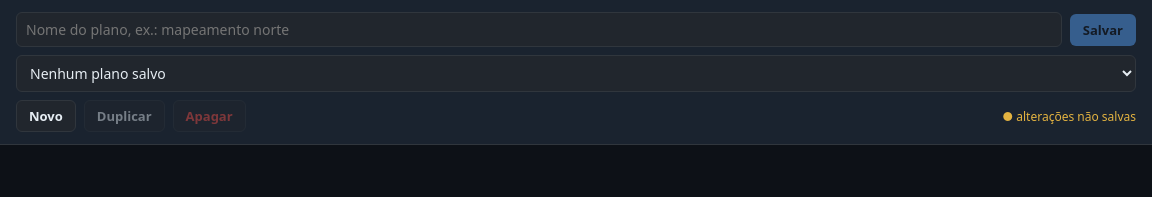
Test: PlanBar › saves, then shows the plan as saved and lists it
The image size is (1152, 197).
Type "Norte" into the field labelled "Nome do plano" at (539, 30), box [16,12,1062,47]
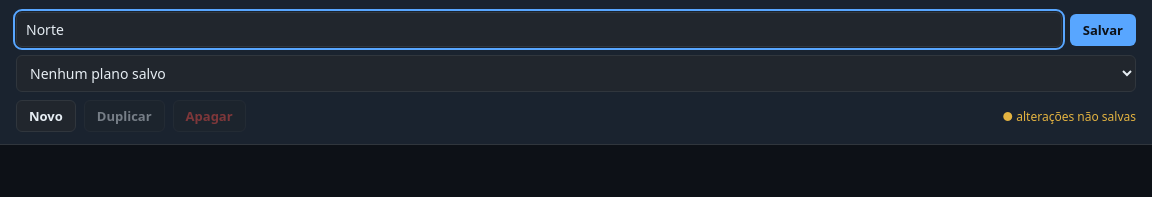
Click the button "Salvar" at (1103, 30), box [1070,14,1136,46]
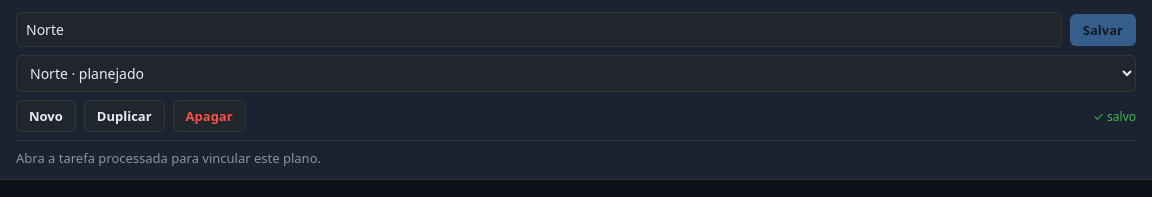
expect the text "✓ salvo" is shown: met, box [1093,108,1136,124]
expect the button "Salvar" is disabled: met, box [1070,14,1136,46]
